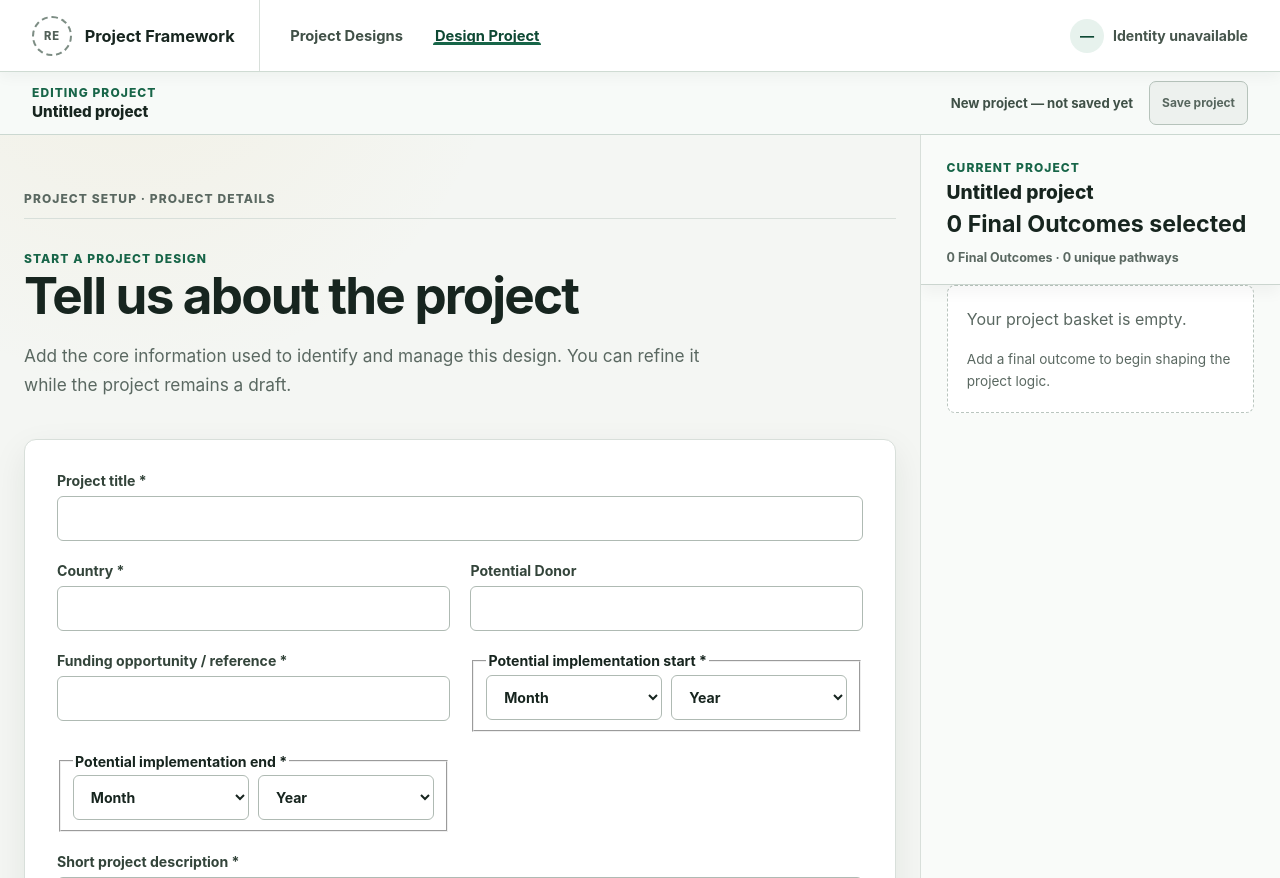
Test: project persistence workflow › keeps local edits when a save fails
Type "Unsaved local project" into the field labelled "Project title *" at (460, 519), box left=57, top=496, right=863, bottom=542
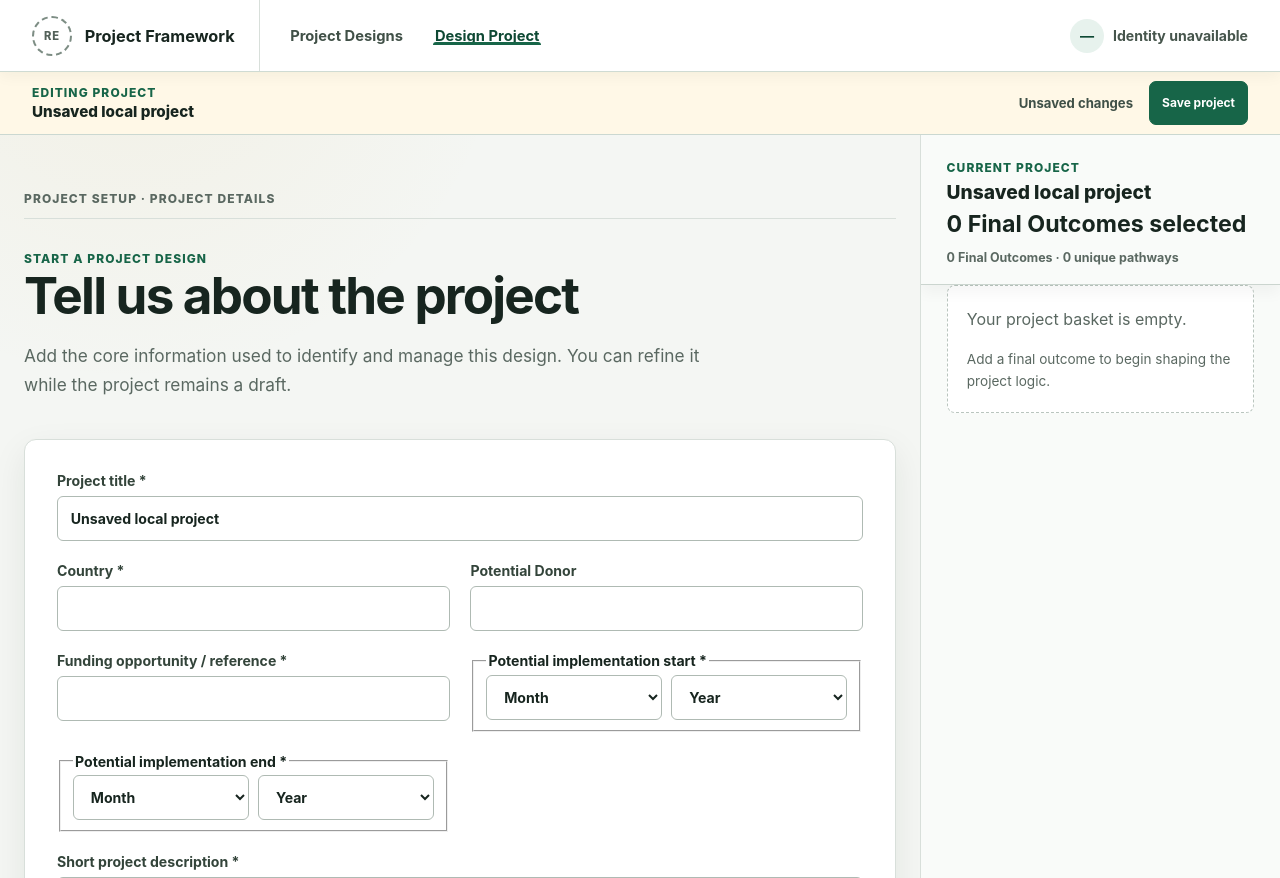
Click the button "Save project" at (1198, 103), box left=1149, top=81, right=1248, bottom=125
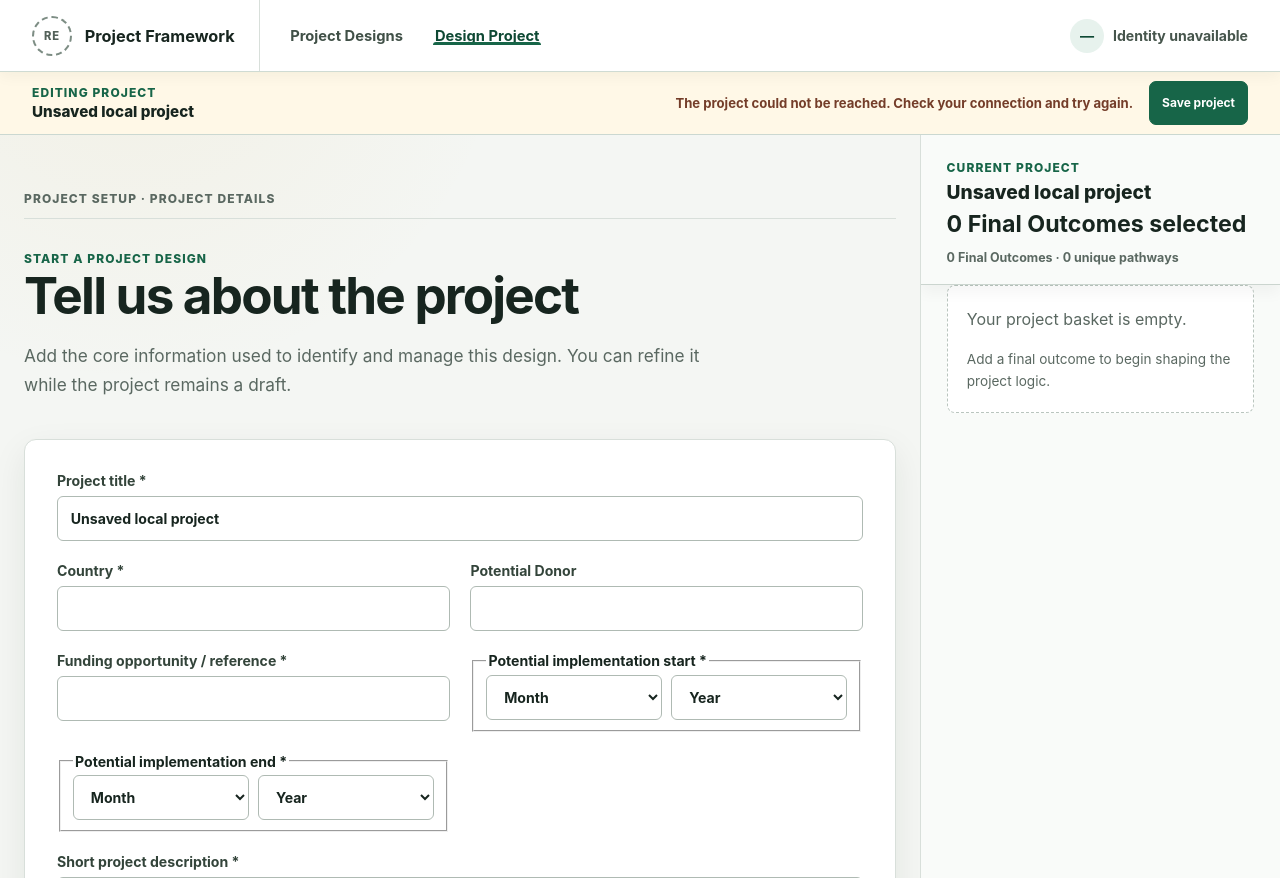
Expected: the button "Save project" is enabled, left=1149, top=81, right=1248, bottom=125
Expected: the message shows "The project could not be reached. Check your connection and try again.", left=676, top=95, right=1133, bottom=111
